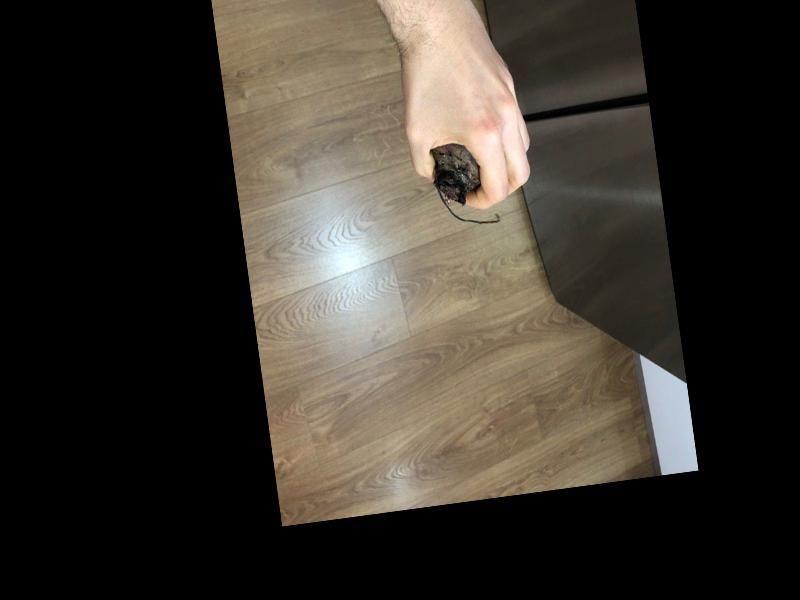Beet: (429, 138, 502, 232)
